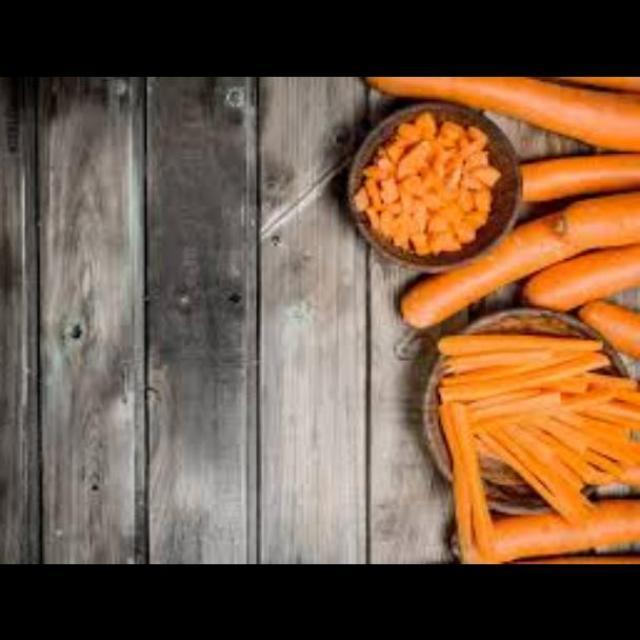Carrot: (426, 326, 632, 509), (383, 212, 640, 312), (360, 76, 640, 166), (362, 115, 490, 248), (461, 488, 640, 565), (530, 240, 640, 322), (526, 150, 640, 204)
